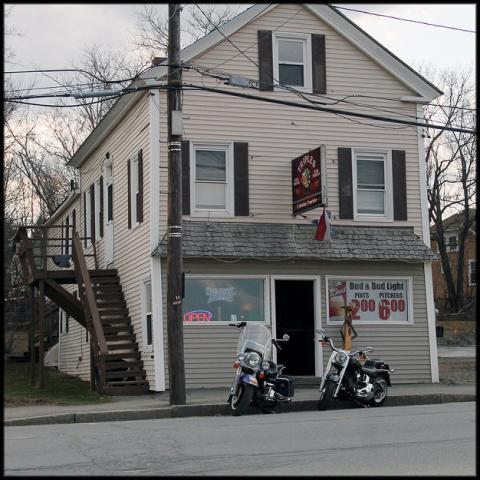motorcycle: (226, 320, 296, 417), (315, 328, 394, 412)
